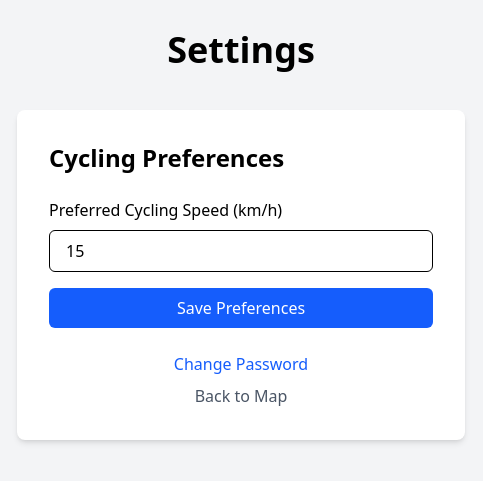
Test: Settings Page › shows error message on failed save
This screenshot has width=483, height=481.
Replace the text in the number field labelled "Preferred Cycling Speed (km/h)" with "30" at (241, 251), box [49,230,433,272]
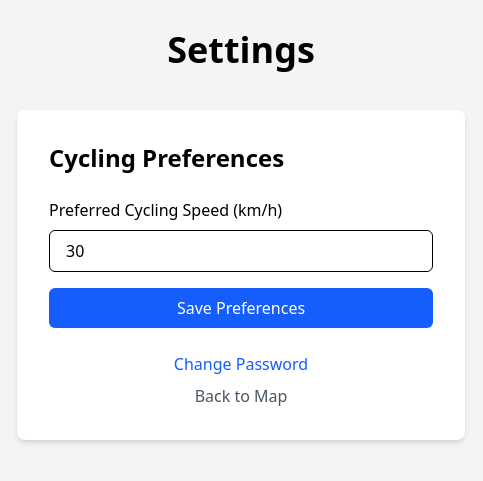
Click the button "Save Preferences" at (241, 308), box [49,288,433,328]
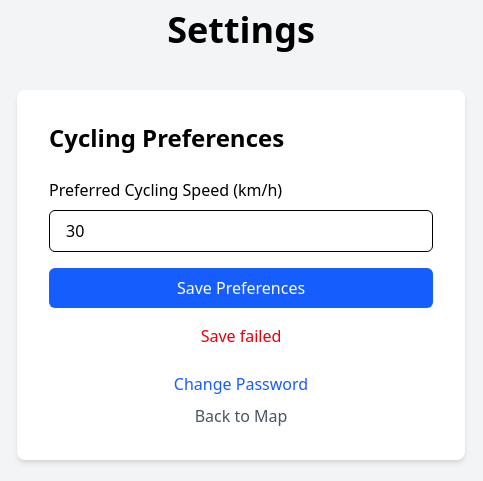
Now the text "Save failed" is shown, box [201,325,281,347]
